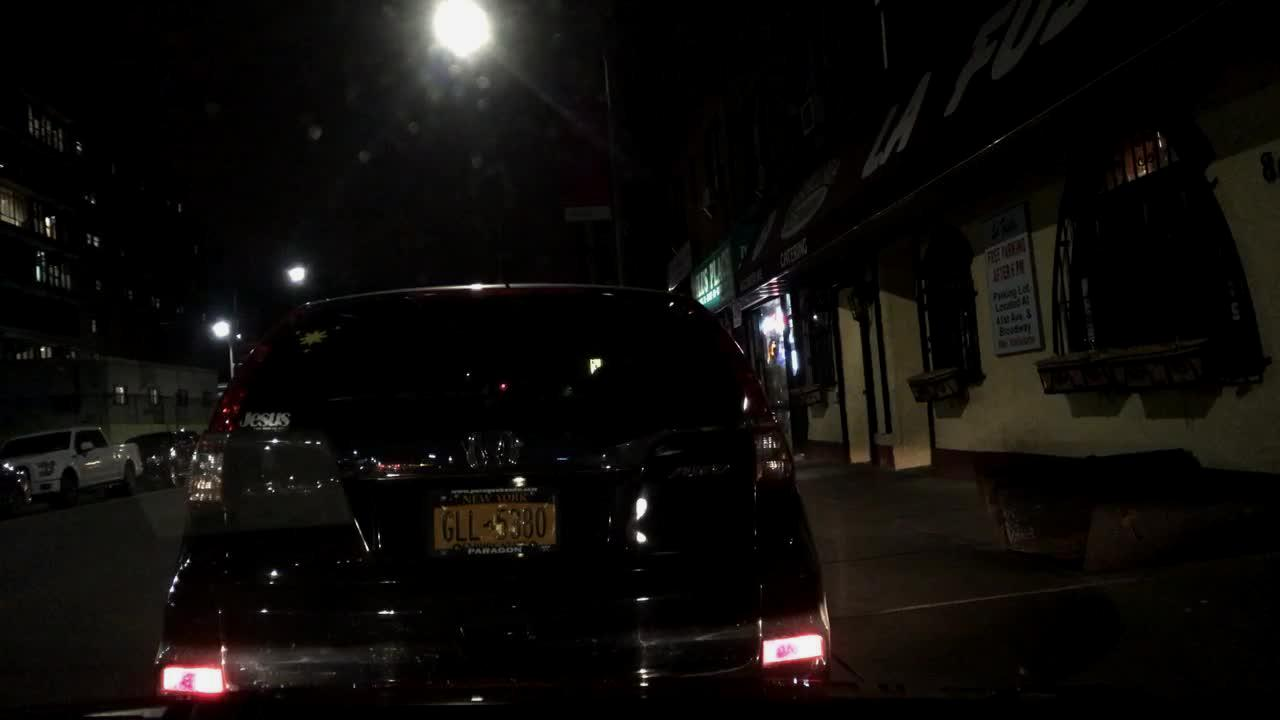Honda: (457, 419, 528, 476)
